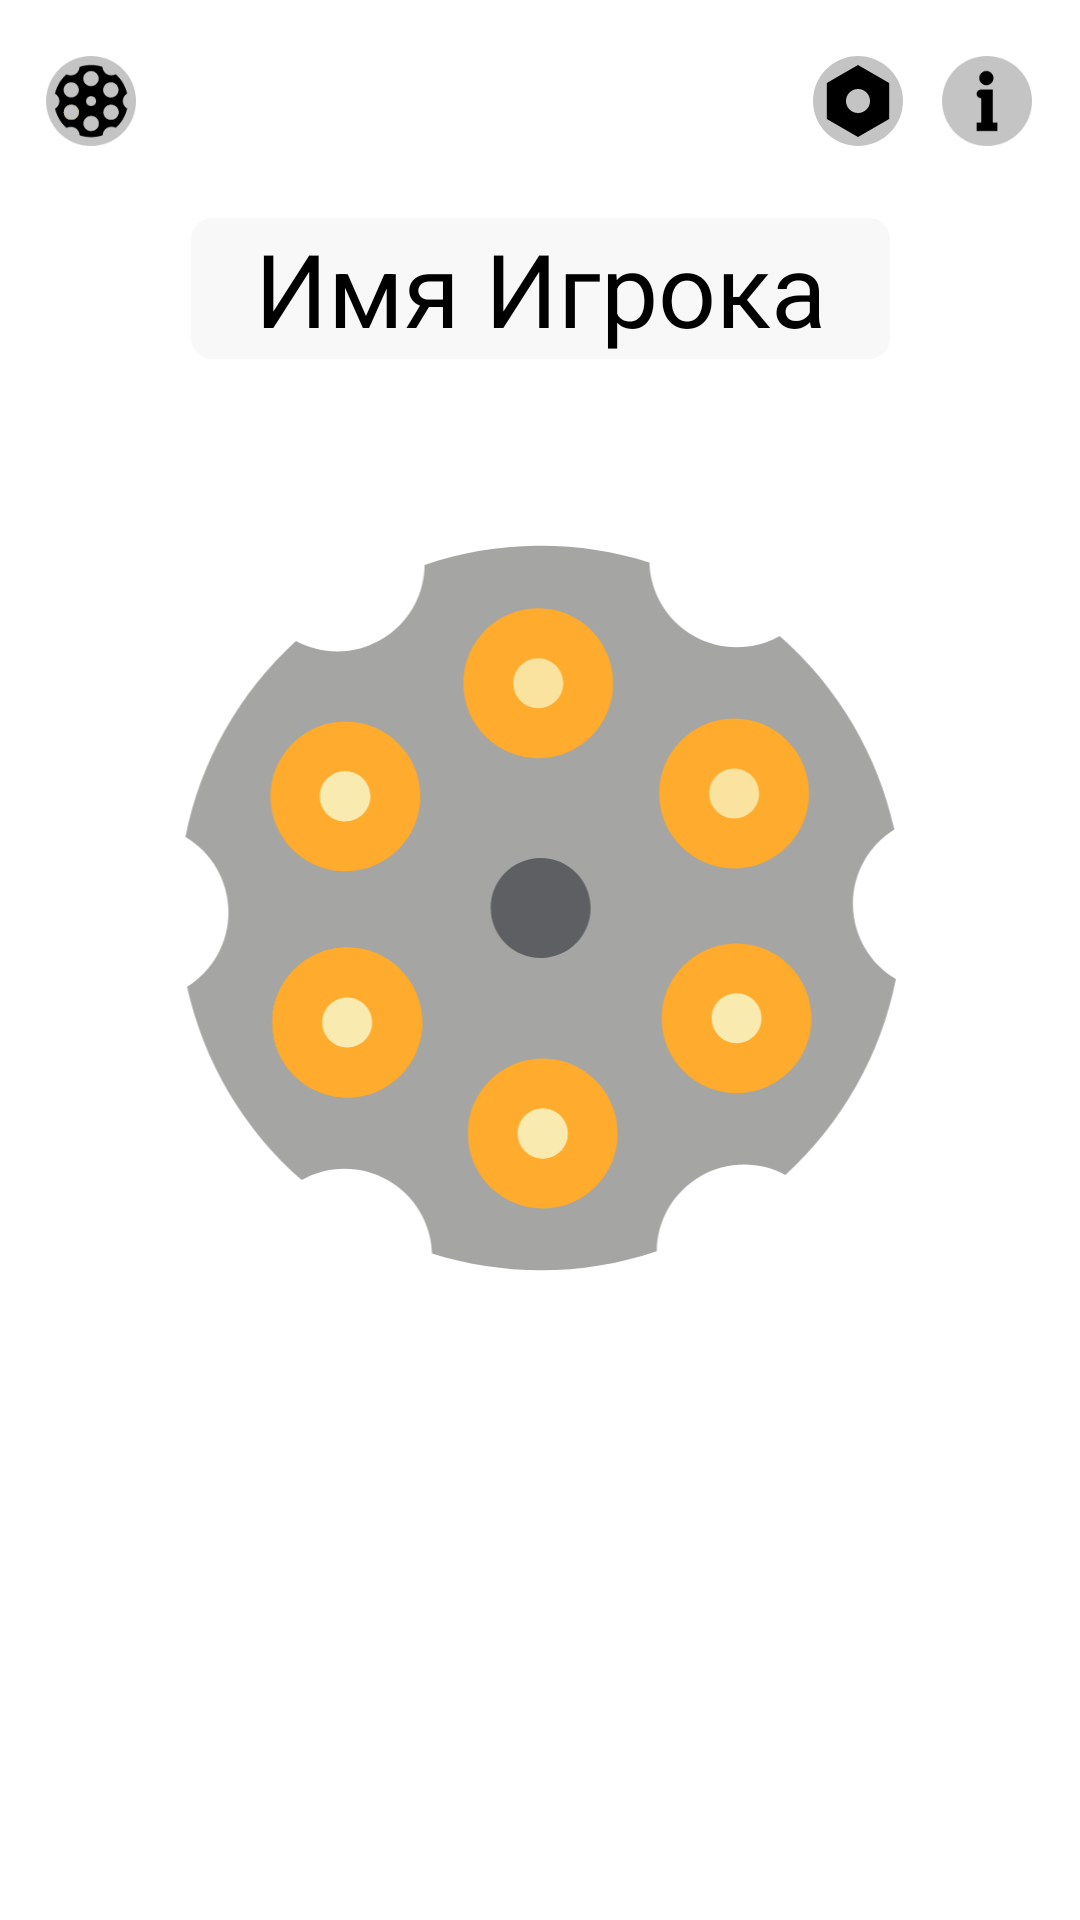

Locate icon controls on the screen. Image size 1080×1920, boxes as (x1, y1, x2, y2).
reset clip: (46, 56, 136, 146)
settings: (813, 56, 903, 146)
